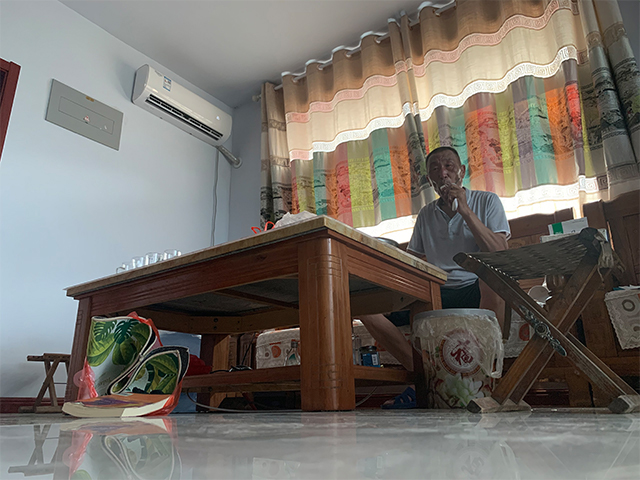book: (60, 390, 173, 419)
stool: (452, 226, 640, 416), (16, 352, 71, 414)
table: (62, 214, 451, 415)
trashcan: (411, 307, 499, 410)
wire: (187, 330, 384, 412)
